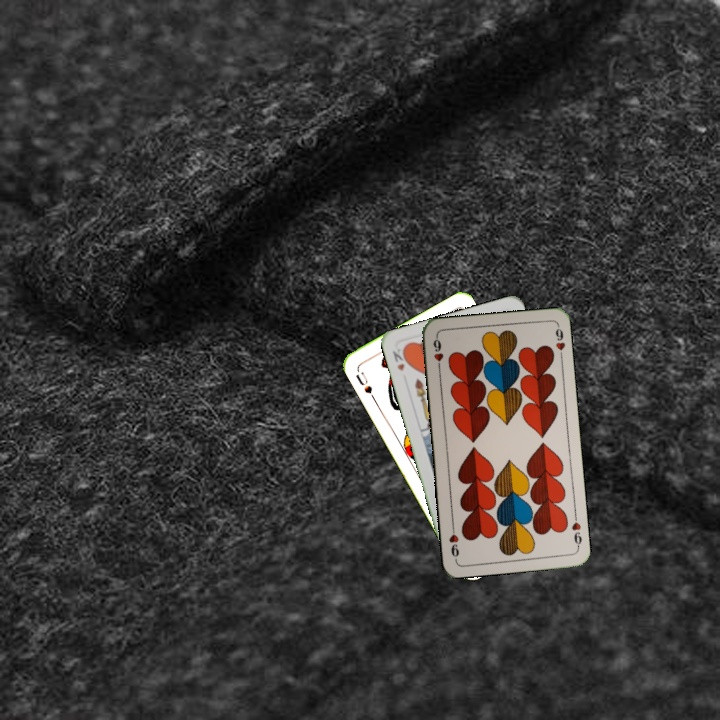H9: (429, 333, 446, 374), (568, 510, 585, 551)
HK: (388, 342, 411, 374)
SU: (352, 367, 378, 403)
